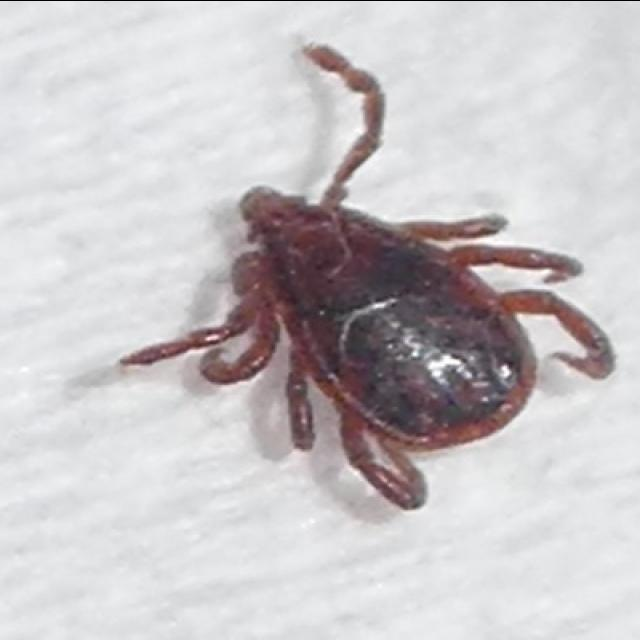Rhipicephalus Sanguineus-M: (118, 42, 614, 512)
